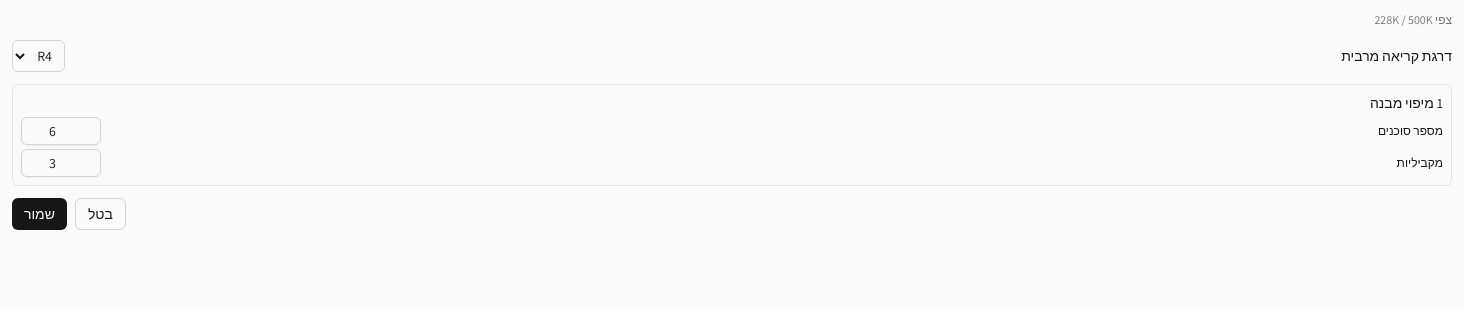
Test: PlanEditor (UX.md §4 עריכה) › blocks Save with a real V2 budget-overrun error when scaled up past the budget
Replace the text in the number field labelled "מספר סוכנים" with "60": (61, 131) [21,117,101,145]
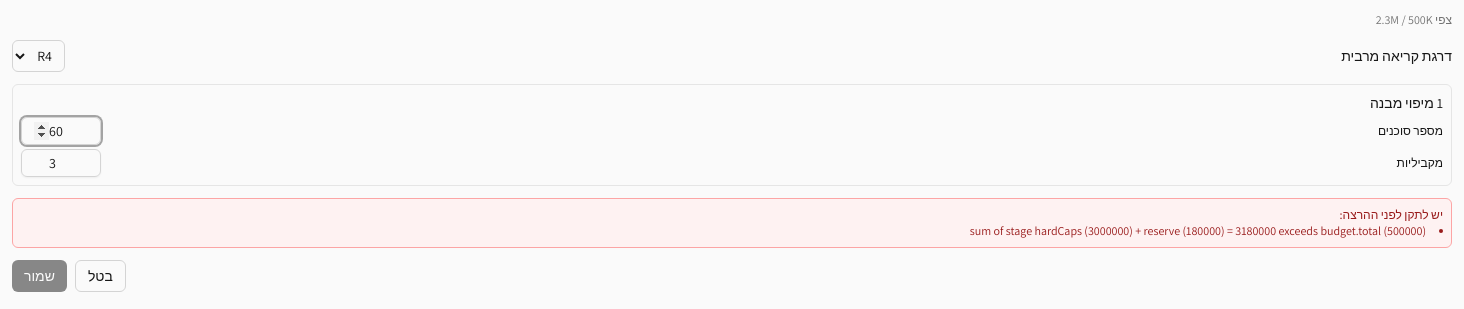
Result: the message is shown at [12,198,1452,248]
Result: the button "שמור" is disabled at [12,260,67,292]
